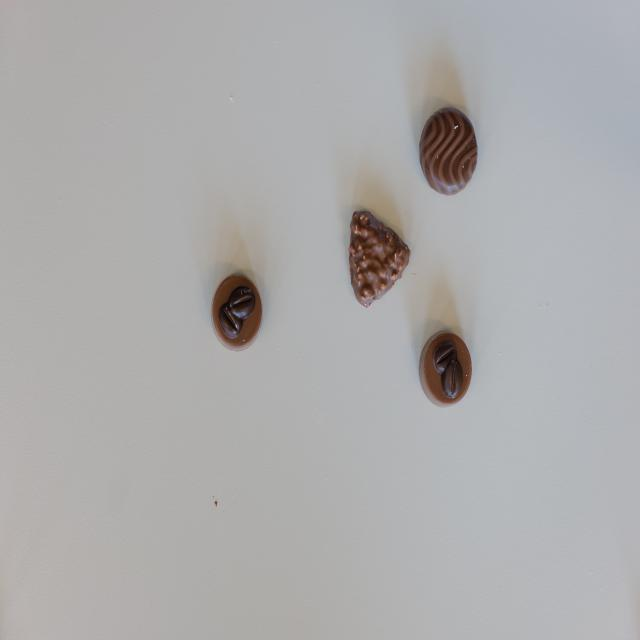Arabia: (211, 272, 263, 352), (419, 331, 473, 408)
Noir_authentique: (419, 106, 479, 196)
Triangolo: (349, 210, 412, 310)
